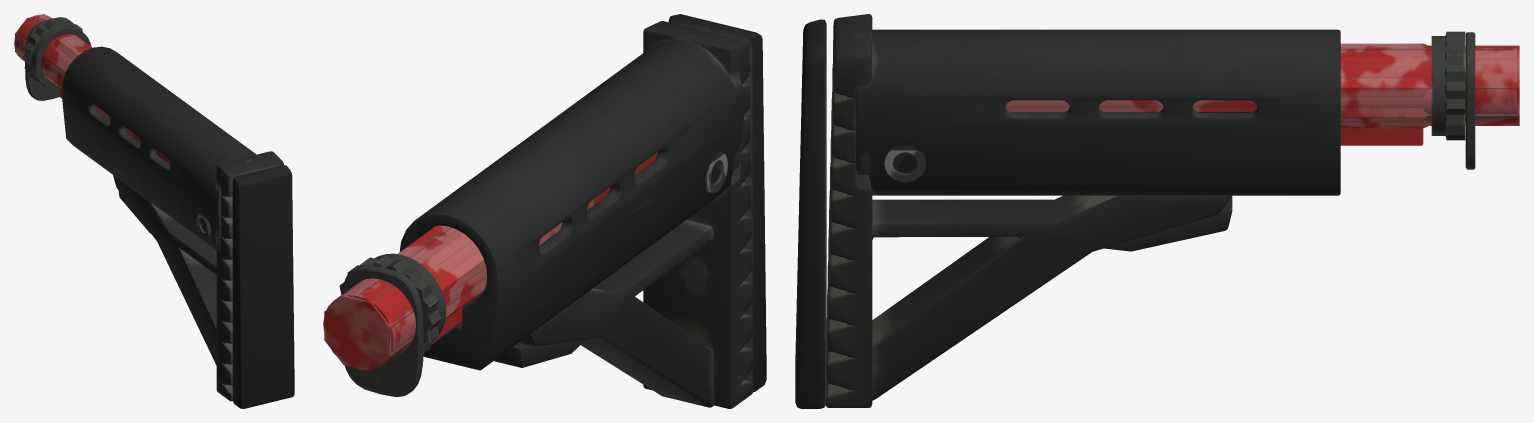
File: coronha_moderna_ar.glb
The picture shows the model from 3 angles, left to right: view 1: azimuth 30°, elevation 25°; view 2: azimuth 150°, elevation 25°; view 3: azimuth 270°, elevation 25°; orthographic projection. The views are drawn at different scales.
Visible parts, largest first — view 1: coronha_moderna_ar_coronha_moderna, coronha_moderna_ar_tubo_coronha_vermelho, coronha_moderna_ar_porca_castelo, coronha_moderna_ar_placa_traseira; view 2: coronha_moderna_ar_coronha_moderna, coronha_moderna_ar_tubo_coronha_vermelho, coronha_moderna_ar_placa_traseira, coronha_moderna_ar_porca_castelo, coronha_moderna_ar_trava_coronha_moderna; view 3: coronha_moderna_ar_coronha_moderna, coronha_moderna_ar_tubo_coronha_vermelho, coronha_moderna_ar_porca_castelo, coronha_moderna_ar_trava_coronha_moderna, coronha_moderna_ar_placa_traseira.
Part boxes in pixels (bbox=[...]): coronha_moderna_ar_coronha_moderna: bbox=[62, 46, 294, 408]; coronha_moderna_ar_tubo_coronha_vermelho: bbox=[14, 14, 170, 164]; coronha_moderna_ar_porca_castelo: bbox=[23, 18, 91, 88]; coronha_moderna_ar_placa_traseira: bbox=[25, 17, 67, 100]; coronha_moderna_ar_coronha_moderna: bbox=[399, 14, 766, 408]; coronha_moderna_ar_tubo_coronha_vermelho: bbox=[323, 152, 657, 371]; coronha_moderna_ar_placa_traseira: bbox=[341, 264, 423, 396]; coronha_moderna_ar_porca_castelo: bbox=[339, 253, 445, 353]; coronha_moderna_ar_trava_coronha_moderna: bbox=[494, 339, 585, 367]; coronha_moderna_ar_coronha_moderna: bbox=[795, 14, 1340, 408]; coronha_moderna_ar_tubo_coronha_vermelho: bbox=[1005, 43, 1519, 145]; coronha_moderna_ar_porca_castelo: bbox=[1431, 31, 1465, 140]; coronha_moderna_ar_trava_coronha_moderna: bbox=[1104, 196, 1232, 251]; coronha_moderna_ar_placa_traseira: bbox=[1465, 32, 1475, 169].
Bounding box in the file's own units: 0.041 × 0.1428 × 0.2629.
Materials: 1 (1 with a texture image).
